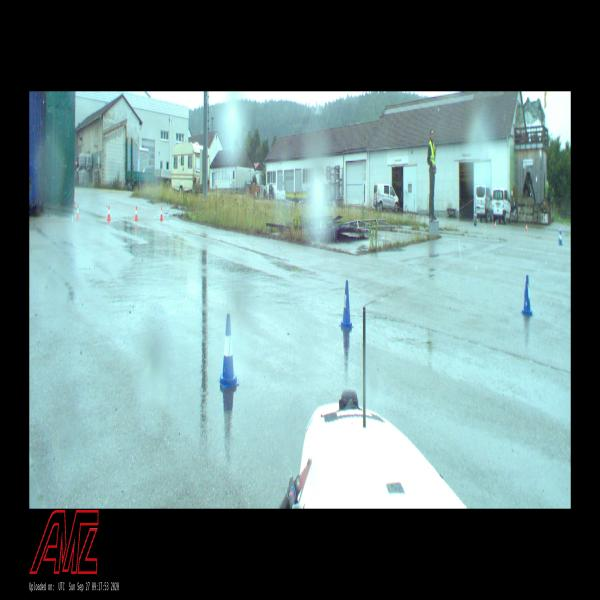blue_cone: (219, 314, 238, 388), (340, 281, 354, 328), (522, 276, 533, 316), (558, 230, 562, 245)
orange_cone: (107, 206, 111, 221), (134, 207, 138, 221), (76, 205, 80, 219), (160, 206, 163, 222), (494, 220, 496, 228), (526, 224, 527, 231)
